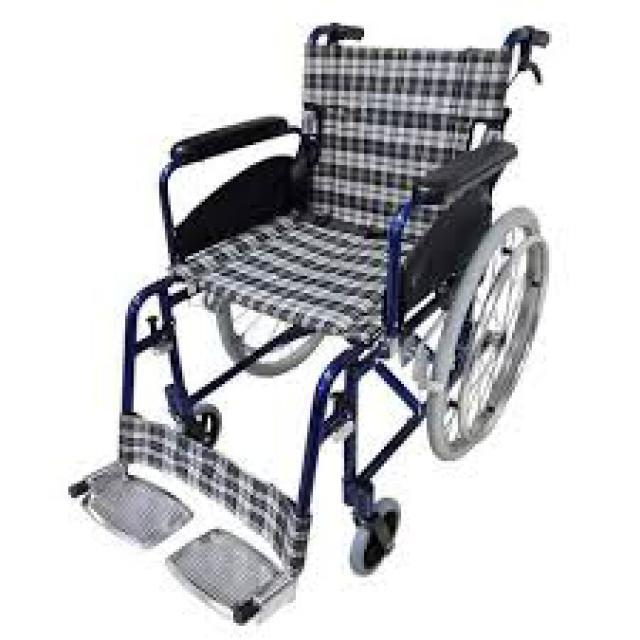wheelchair: (54, 12, 583, 638)
